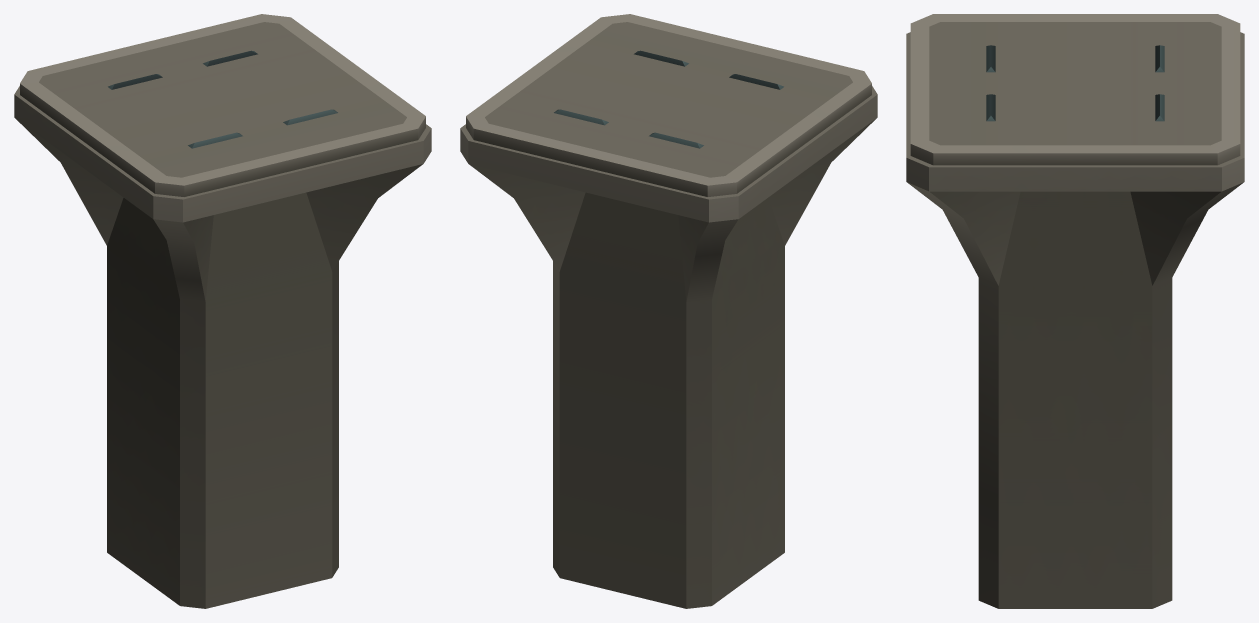
Rendered from Concrete_Block_2A.fbx.
3 renders of one model, left to right at view 1: azimuth 30°, elevation 25°; view 2: azimuth 150°, elevation 25°; view 3: azimuth 270°, elevation 25°, orthographic. The views are drawn at different scales.
Parts seen in each view (by area): view 1: Concrete_Block_2A; view 2: Concrete_Block_2A; view 3: Concrete_Block_2A.
Boxes of the visible parts, left/top/right/bottom form: Concrete_Block_2A: left=14, top=14, right=431, bottom=608; Concrete_Block_2A: left=460, top=14, right=877, bottom=608; Concrete_Block_2A: left=906, top=14, right=1244, bottom=608.
Size of the model in its own units: 760 by 1208 by 760.
